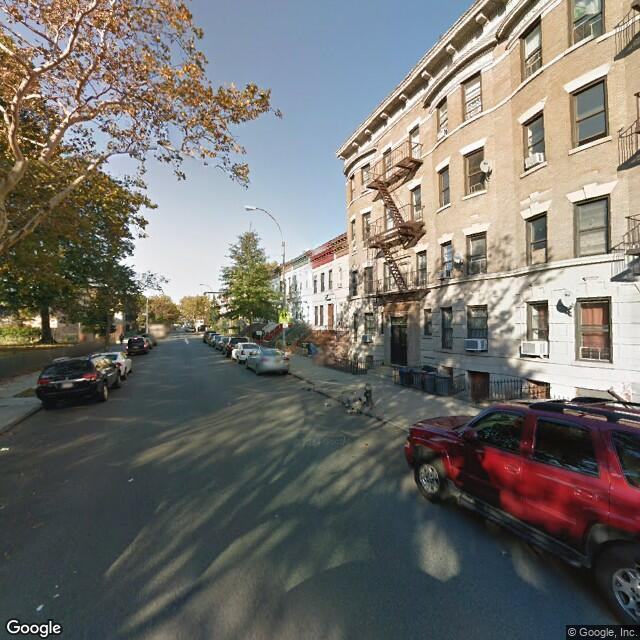litter: (327, 375, 376, 417), (30, 589, 81, 619), (121, 471, 148, 490), (1, 431, 18, 449)
